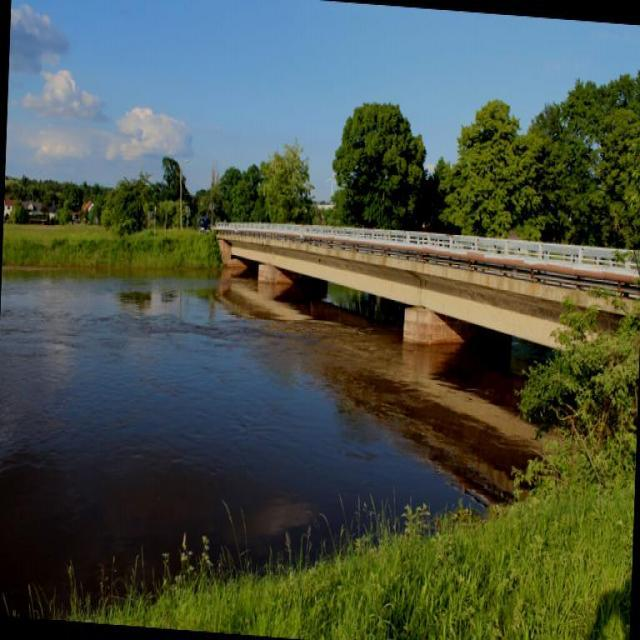flood: (0, 244, 590, 639)
